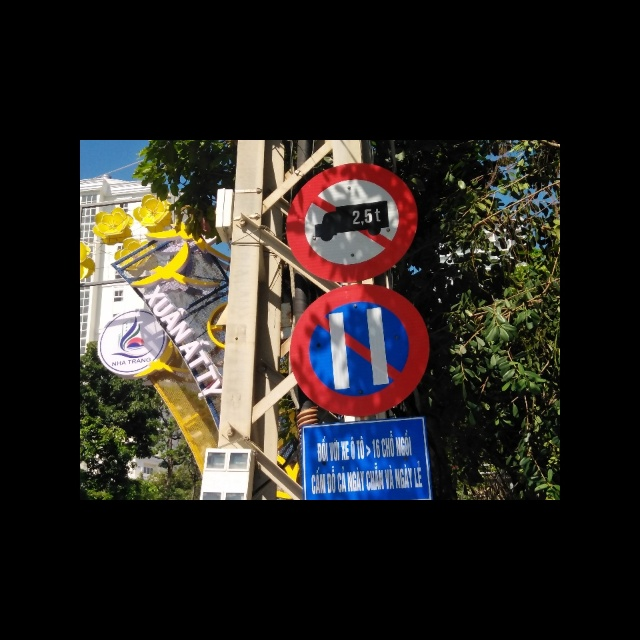Cấm xe tải: (285, 162, 419, 283)
Cấm đỗ xe ngày chẵn: (285, 284, 432, 414)
